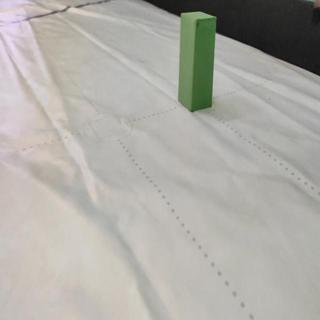greenbox: (177, 11, 217, 112)
